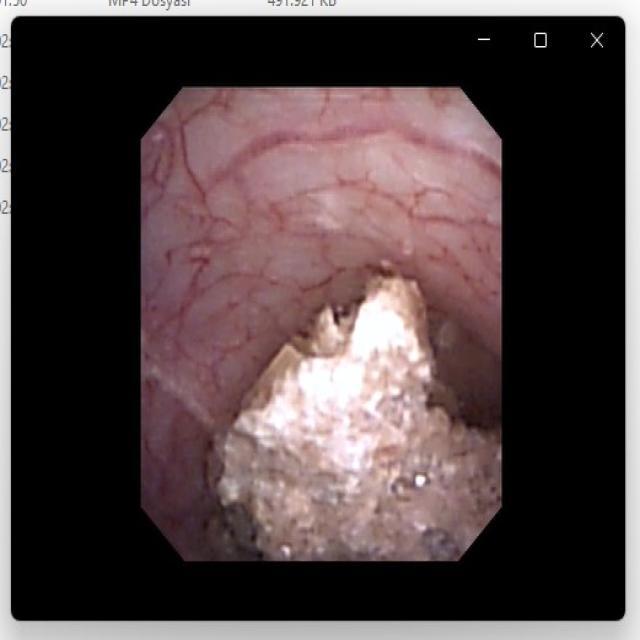stone: (219, 276, 499, 555)
tissue: (146, 95, 494, 554)
